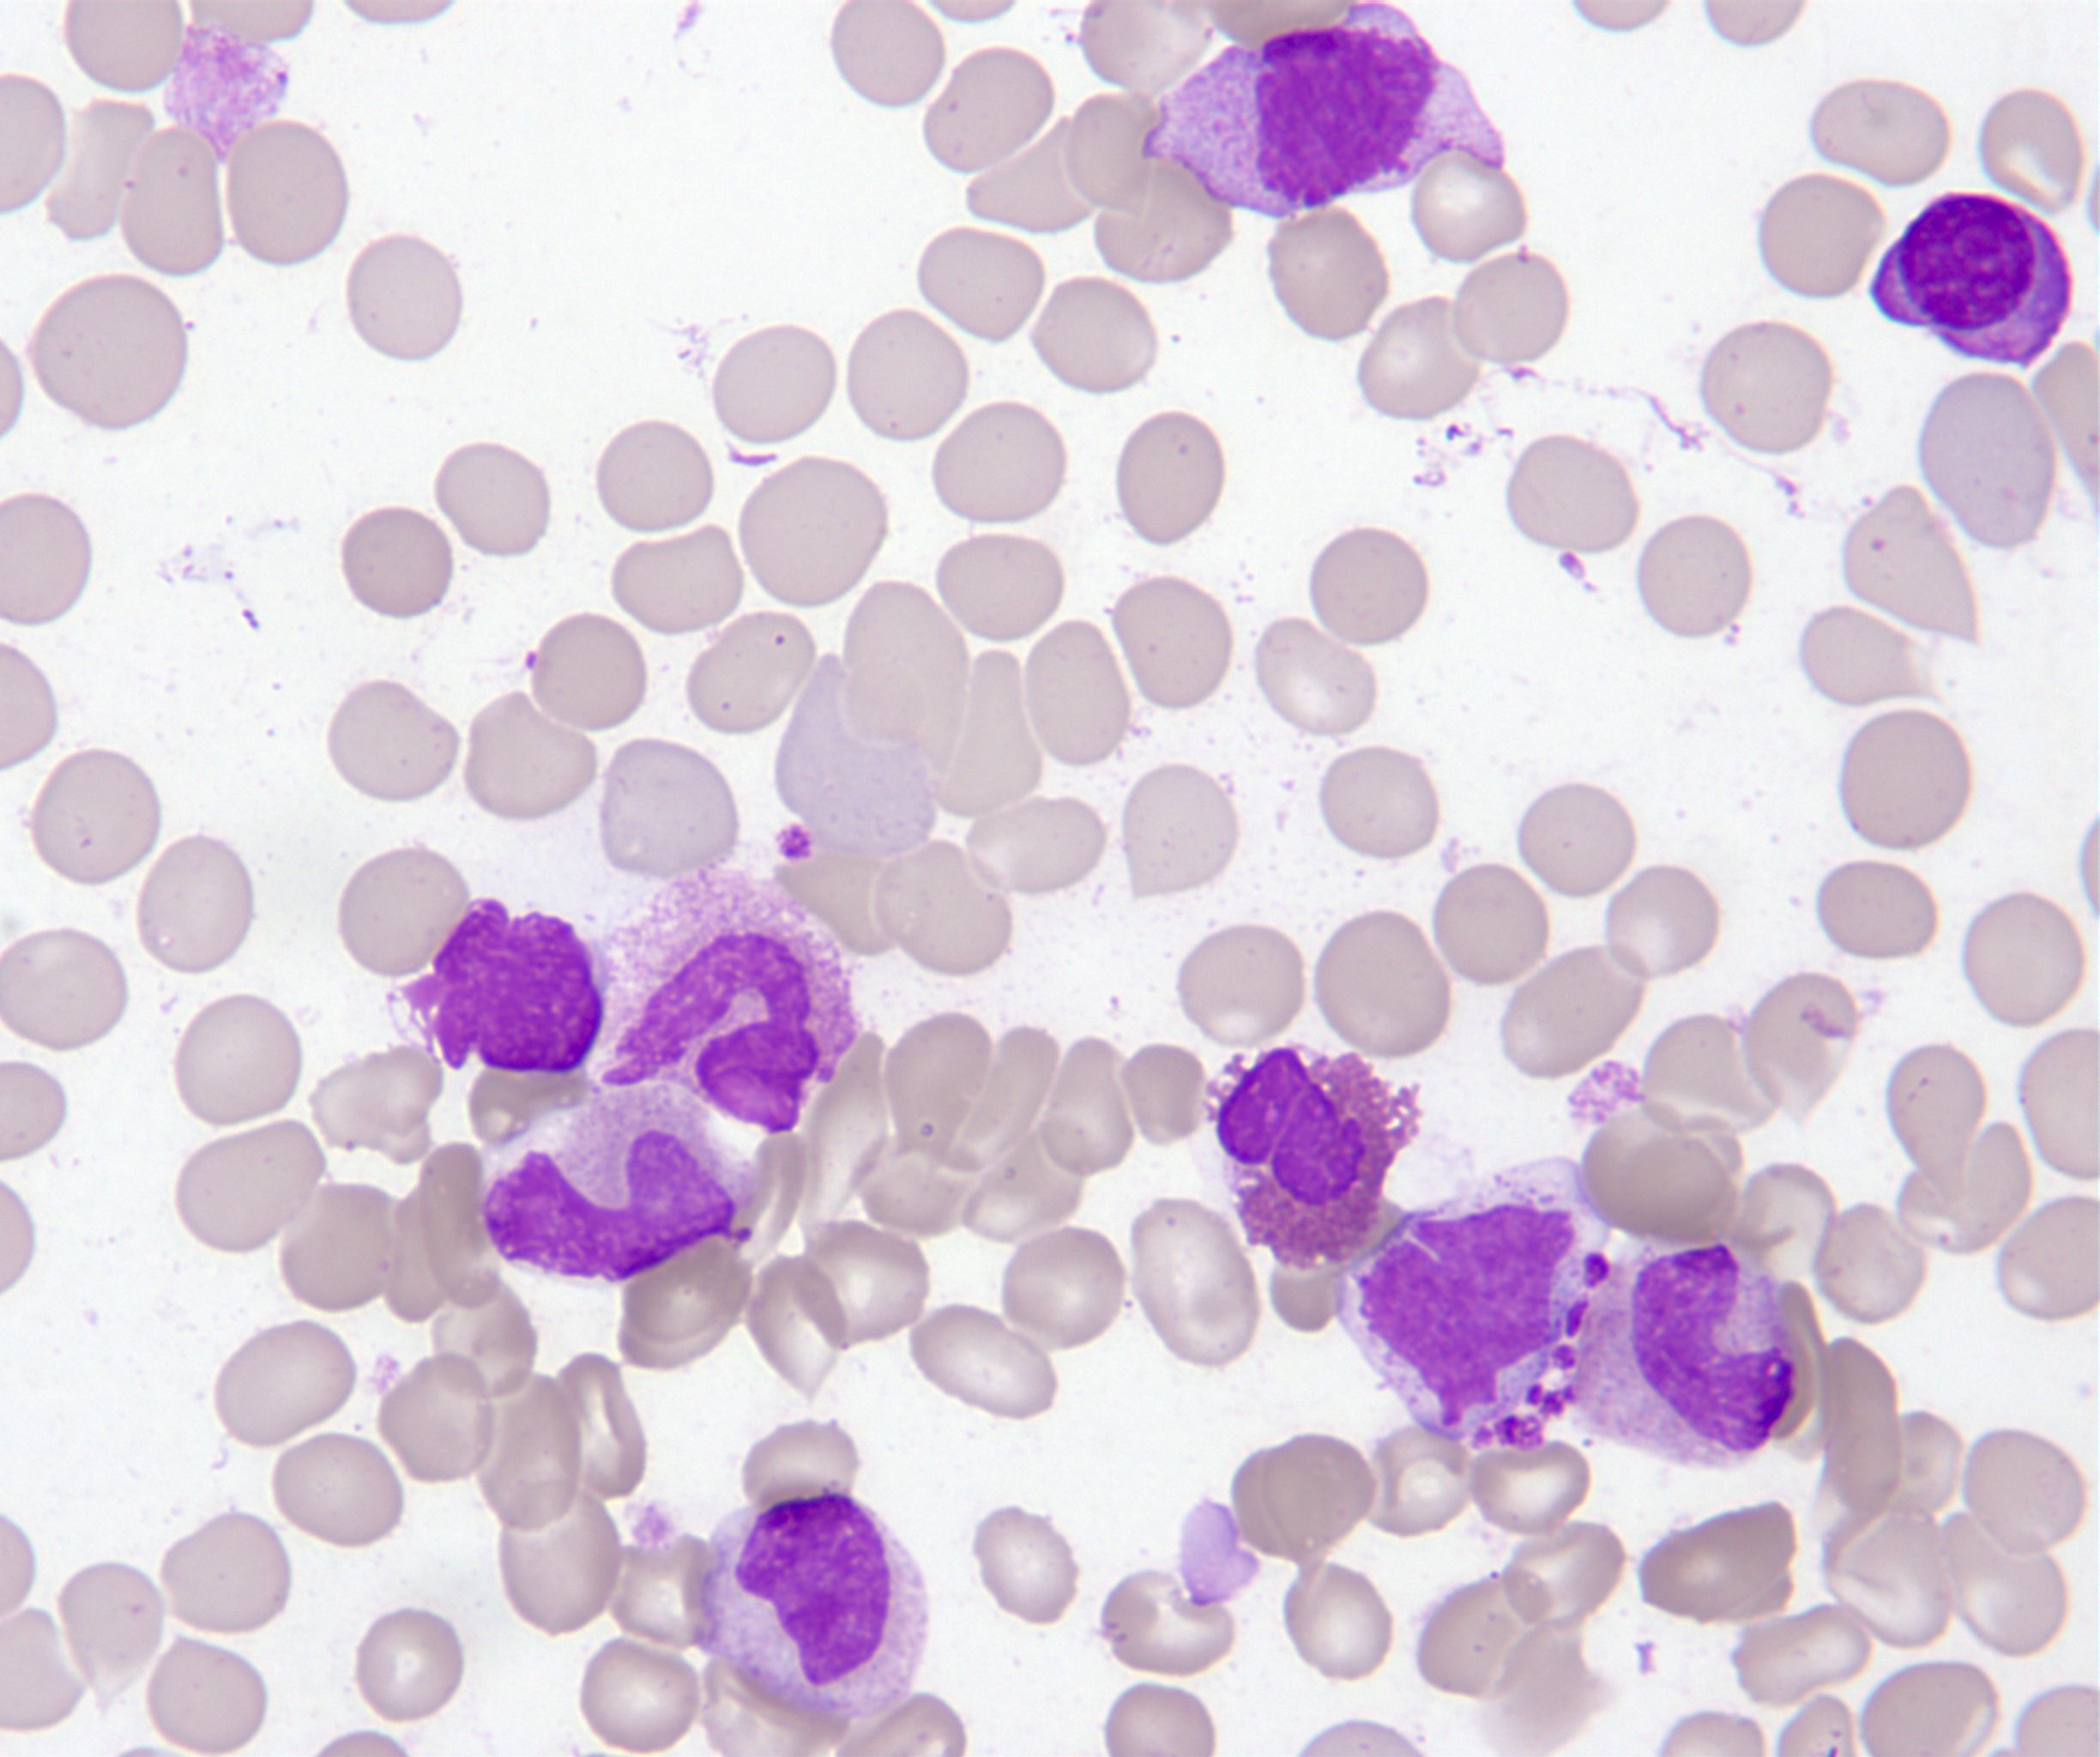3: (1135, 0, 1509, 223), (680, 1481, 935, 1724)
4: (1563, 1239, 1803, 1478)
42: (1333, 1150, 1617, 1455)
5: (577, 846, 865, 1139), (473, 1087, 760, 1293)
52: (1865, 187, 2081, 373)
E4: (1200, 1033, 1427, 1275)
